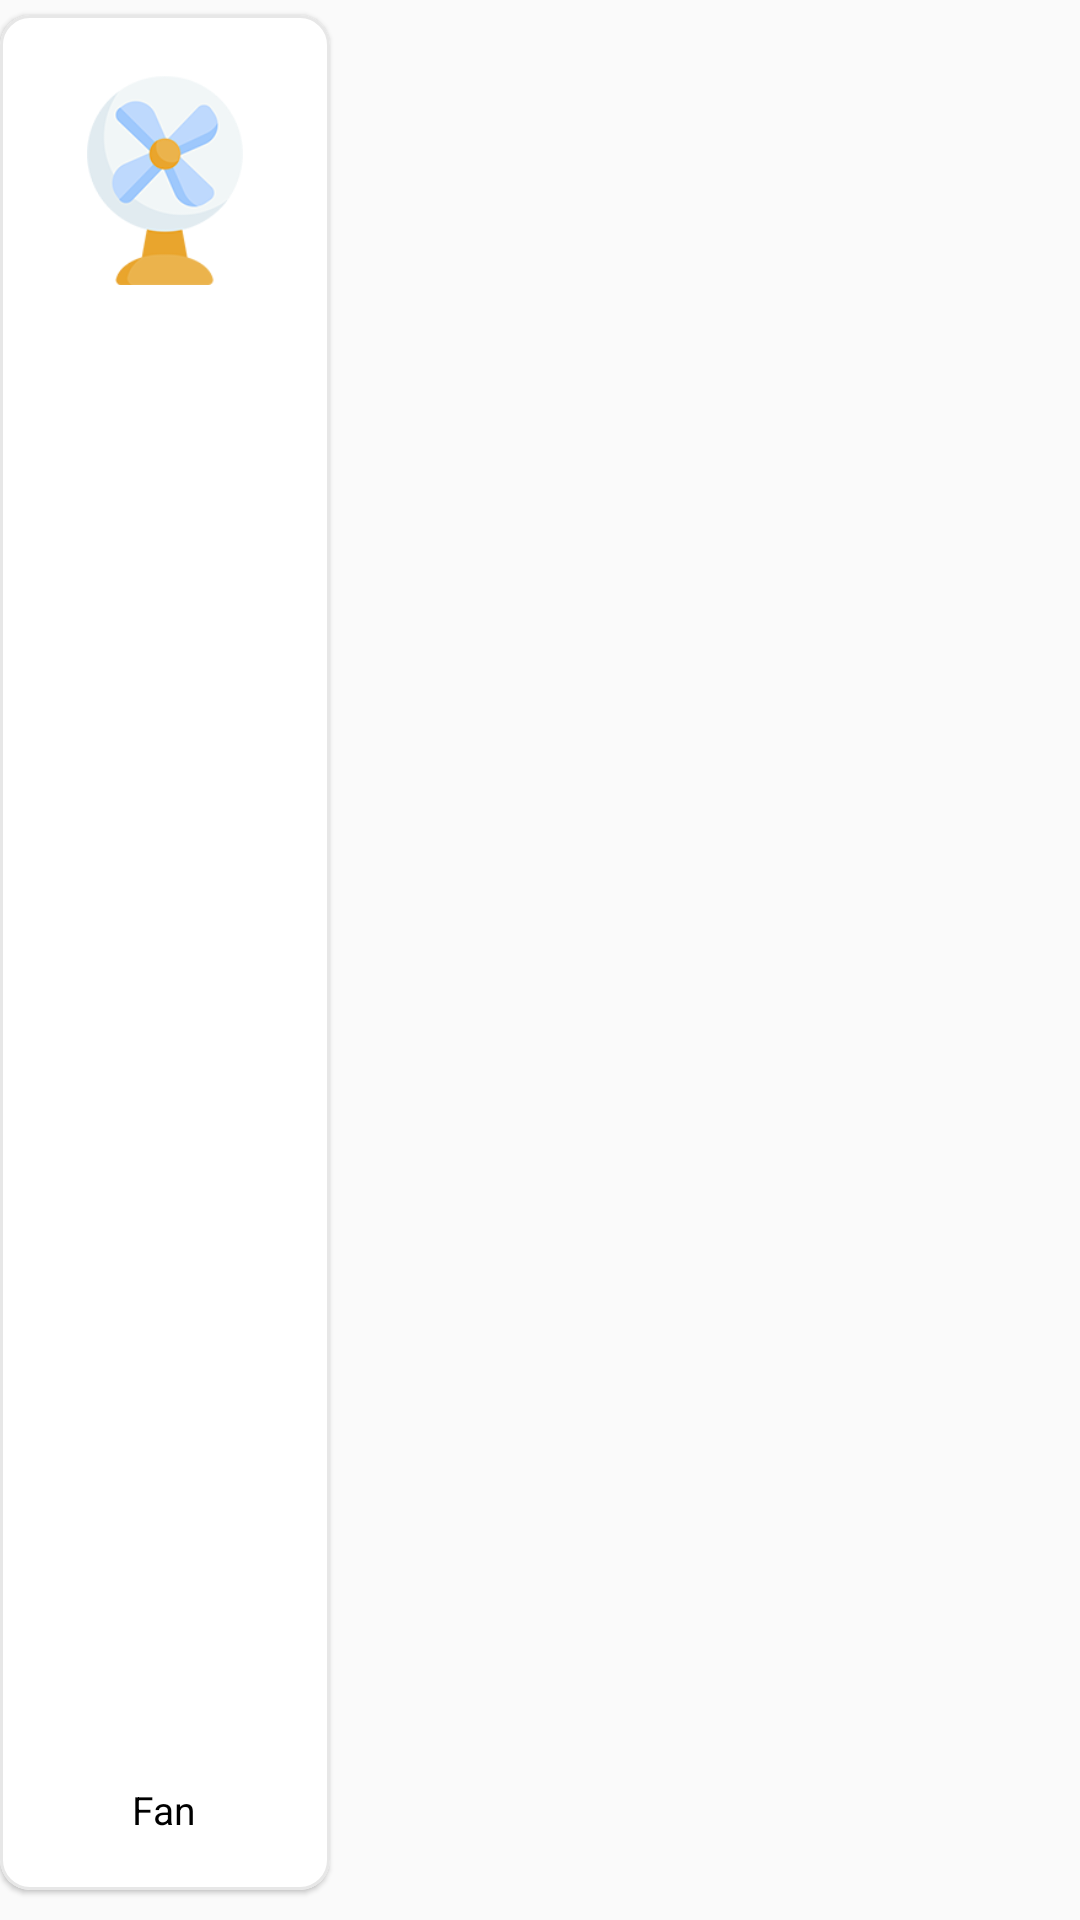

Named icons in this screenshot (1080x1920) and their bounding boxes, (x1, y1, x2, y2):
fan: (88, 95, 224, 285)
